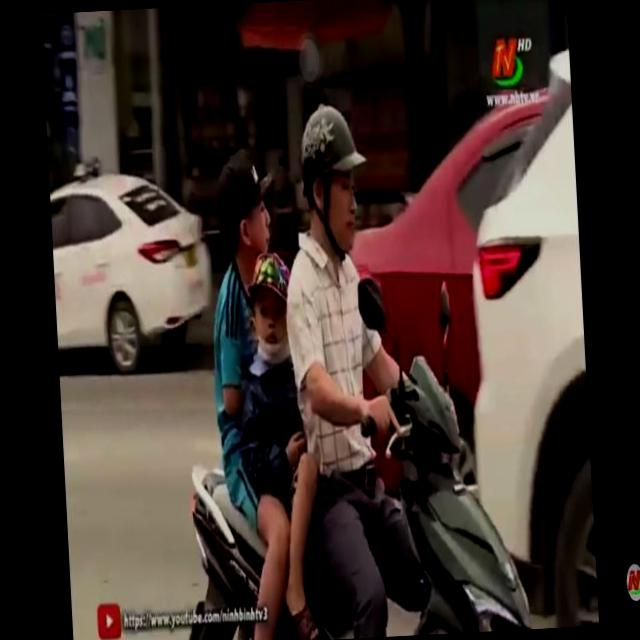motorcycle: (169, 337, 540, 640)
person: (268, 85, 430, 640), (183, 140, 356, 640), (210, 238, 332, 506)
rider_region: (155, 92, 531, 640)
